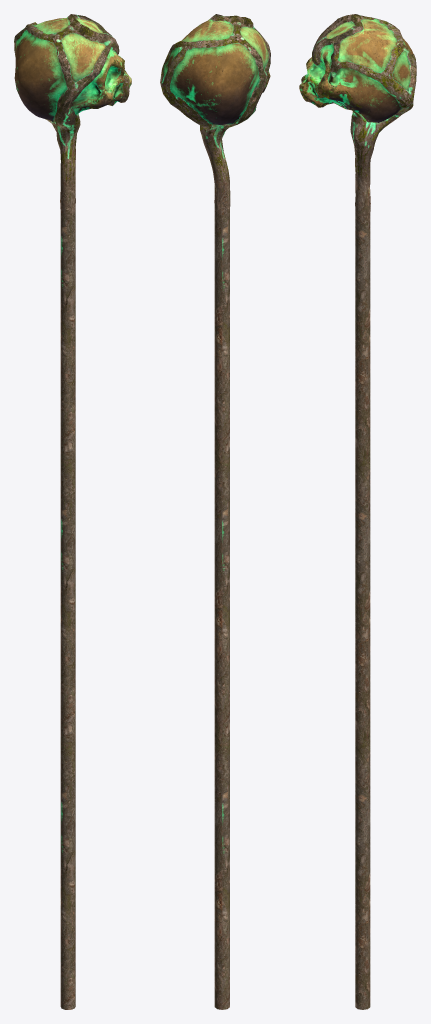
File: VoodooStaff.fbx
The picture shows the model from 3 angles, left to right: view 1: azimuth 90°, elevation 25°; view 2: azimuth 150°, elevation 25°; view 3: azimuth 270°, elevation 25°; orthographic projection.
Parts seen in each view (by area): view 1: VoodooStaff; view 2: VoodooStaff; view 3: VoodooStaff.
Part boxes in pixels (x1,y1,x2,y2): VoodooStaff: (14, 14, 131, 1009); VoodooStaff: (160, 14, 270, 1009); VoodooStaff: (299, 14, 416, 1009).
Size of the model in its own units: 16.29 by 178 by 19.2.
Materials: 1 (1 with a texture image).
